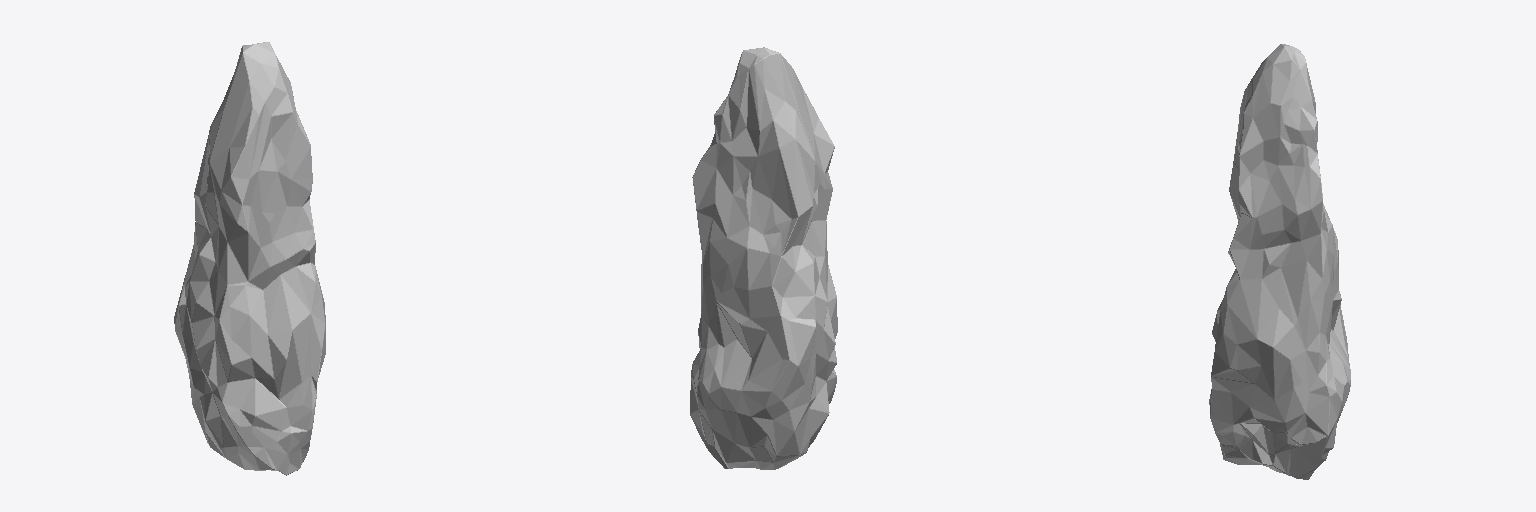
The model's file is greenCrystal.obj.
The picture shows the model from 3 angles: view 1: azimuth 30°, elevation 25°; view 2: azimuth 150°, elevation 25°; view 3: azimuth 270°, elevation 25°; orthographic projection.
Visible parts, largest first — view 1: Turquoise_Crystal_M_Turquoise_0; view 2: Turquoise_Crystal_M_Turquoise_0; view 3: Turquoise_Crystal_M_Turquoise_0.
Part boxes in pixels (x1,y1,x2,y2): Turquoise_Crystal_M_Turquoise_0: (174,42,325,475); Turquoise_Crystal_M_Turquoise_0: (690,47,837,469); Turquoise_Crystal_M_Turquoise_0: (1209,44,1350,479).
Size of the model in its own units: 2.43 by 7.65 by 2.33.